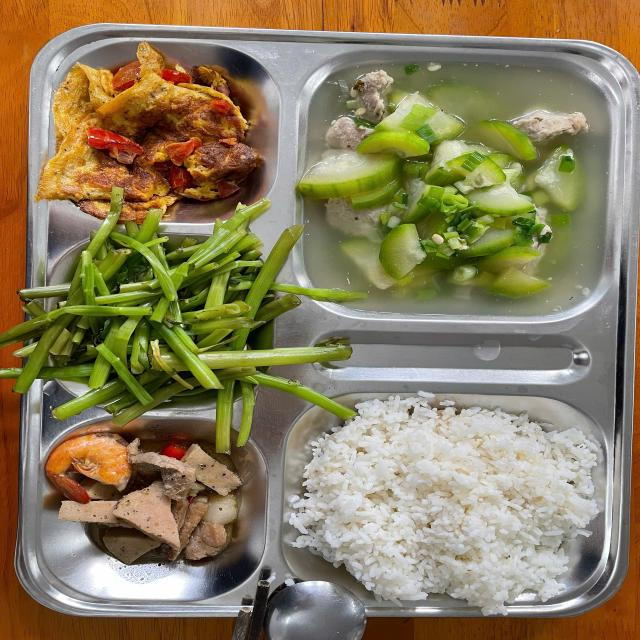canhbau: (298, 56, 611, 312)
rauxao: (41, 231, 290, 416)
salad: (291, 422, 604, 580)
trungca: (44, 432, 250, 572)
trungluoc: (40, 43, 266, 218)
